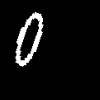chain: (16, 12, 42, 65)
